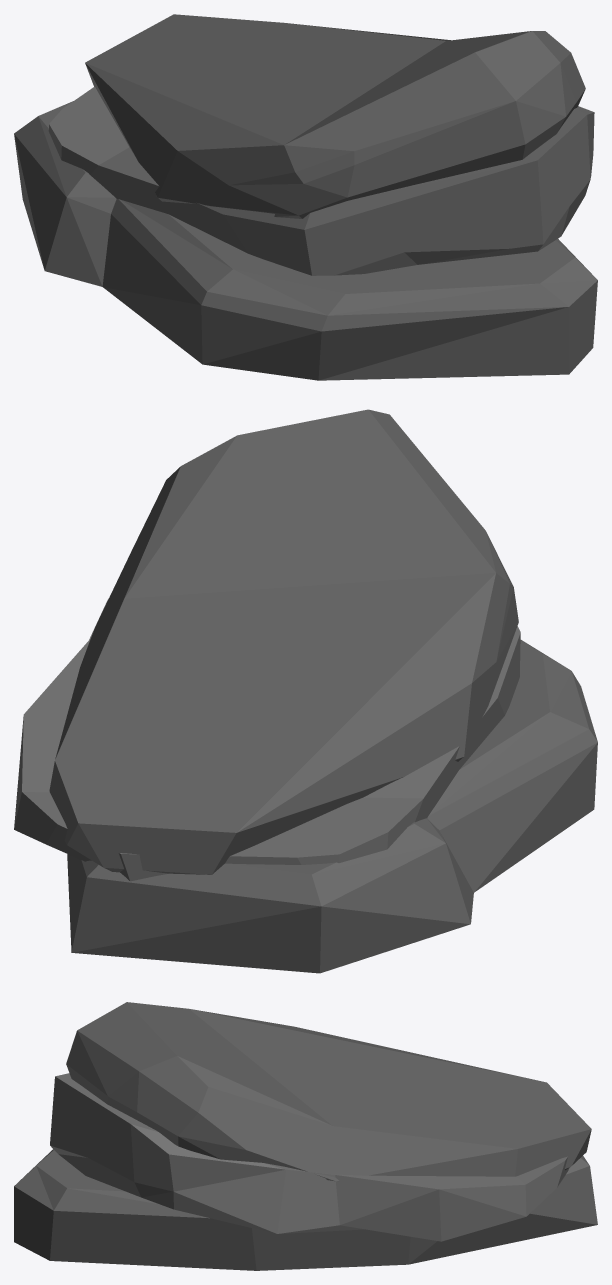
The model's file is EM_Rock19.fbx.
The picture shows the model from 3 angles, top to bottom: view 1: azimuth 30°, elevation 25°; view 2: azimuth 150°, elevation 25°; view 3: azimuth 270°, elevation 25°; orthographic projection. The views are drawn at different scales.
Parts seen in each view (by area): view 1: EM_Rock19_LOD0; view 2: EM_Rock19_LOD0; view 3: EM_Rock19_LOD0.
Part boxes in pixels (box(x1,y1,x2,y2)): EM_Rock19_LOD0: box(14, 14, 597, 380); EM_Rock19_LOD0: box(14, 409, 597, 973); EM_Rock19_LOD0: box(14, 1002, 597, 1270).
Size of what is drawn, in the model's own units: 4.49 by 2.85 by 6.48.
